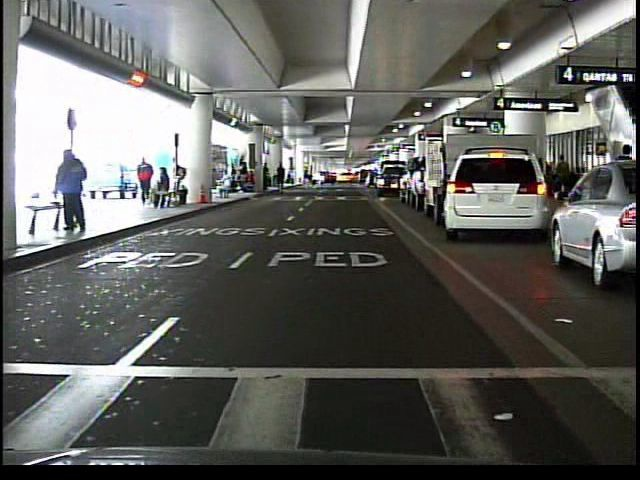person: (58, 144, 96, 236), (214, 169, 233, 205), (302, 163, 316, 192)
